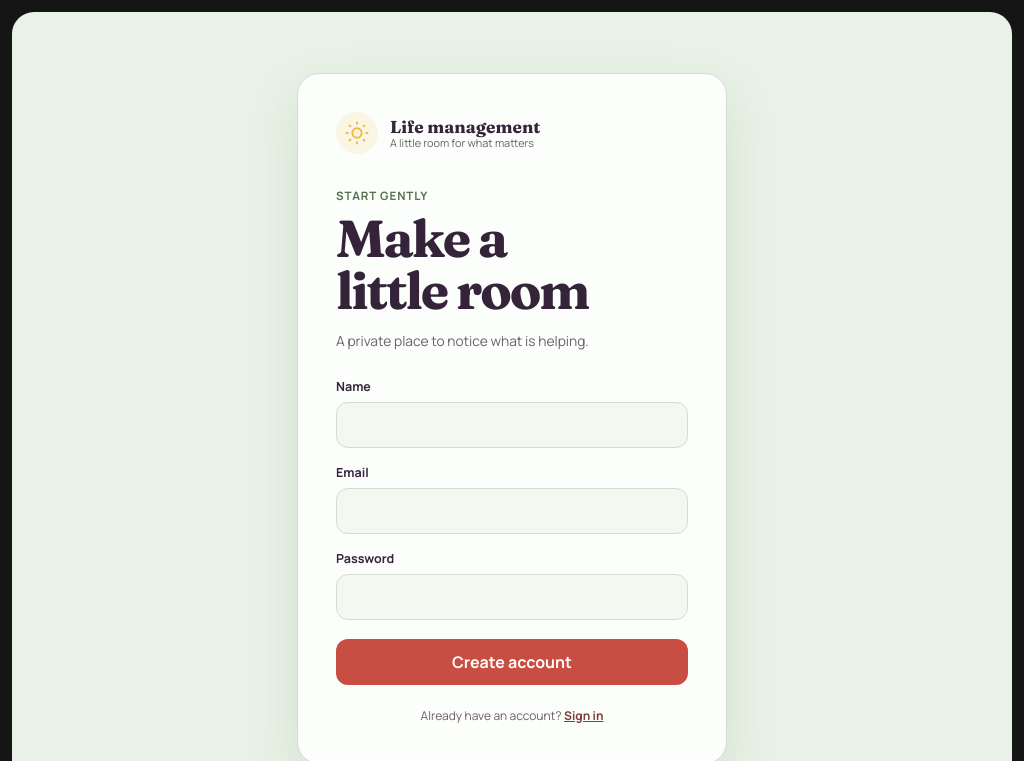
Test: authentication forms › shows signup validation details instead of a generic provider error
In the field labelled "Name": (512, 425) [336,402,688,448], type "Stella"
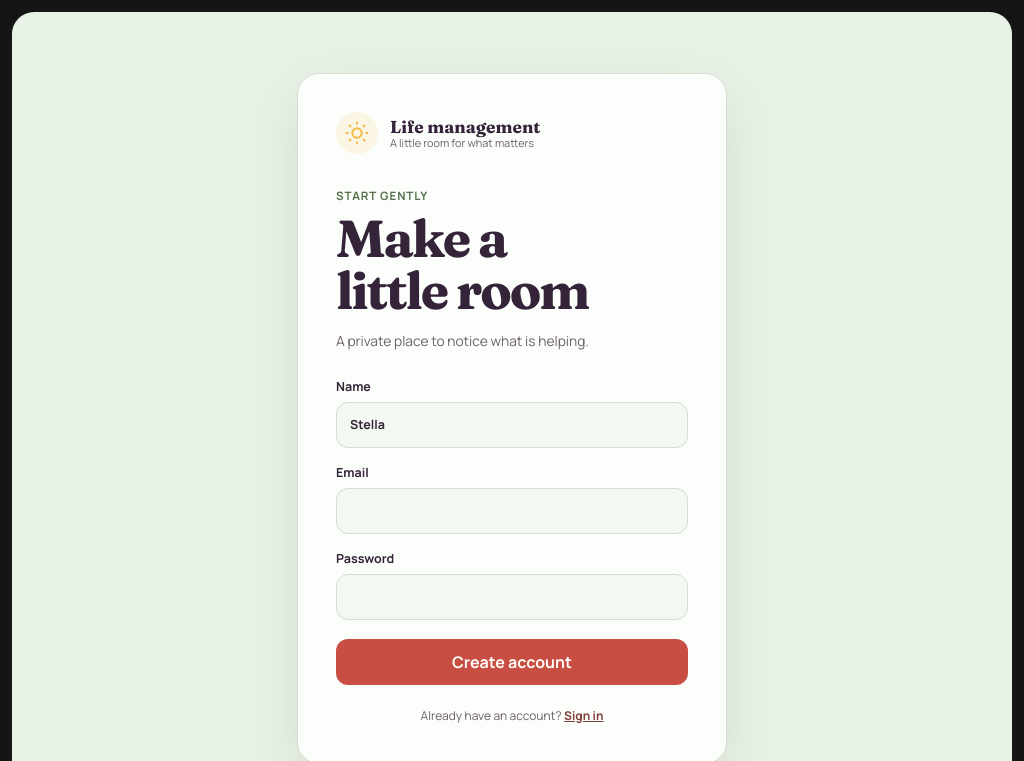
In the field labelled "Email": (512, 511) [336,488,688,534], type "stella@example.test"
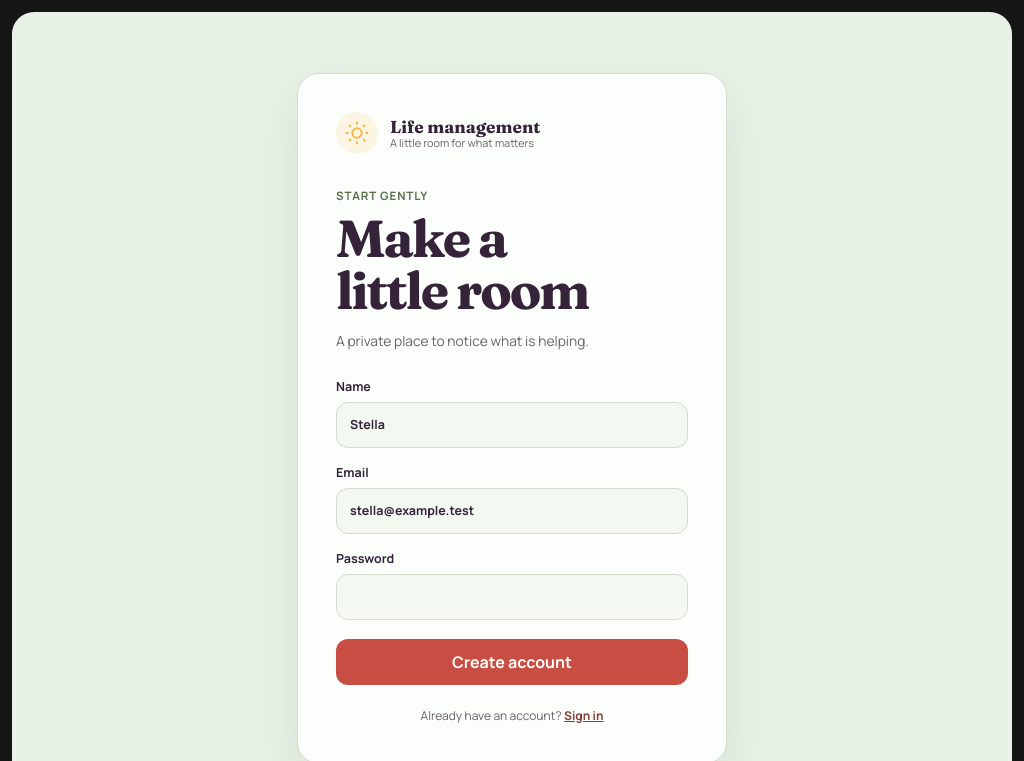
In the password field labelled "Password": (512, 597) [336,574,688,620], type "short"
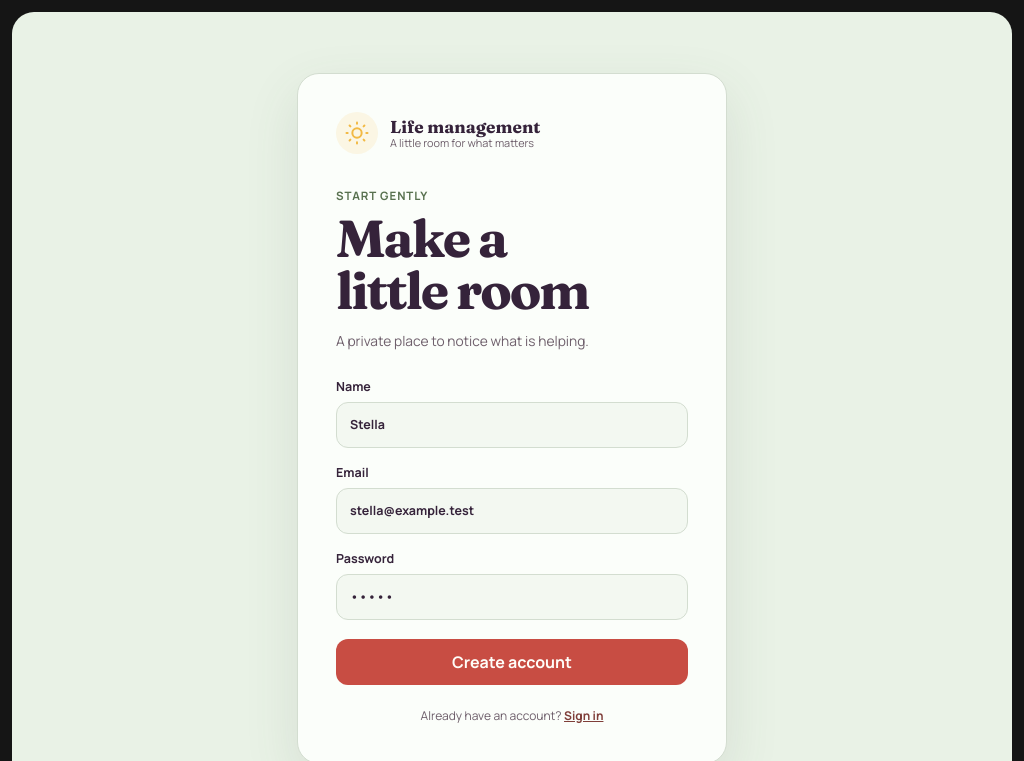
Click the button "Create account": (512, 662) [336,639,688,685]
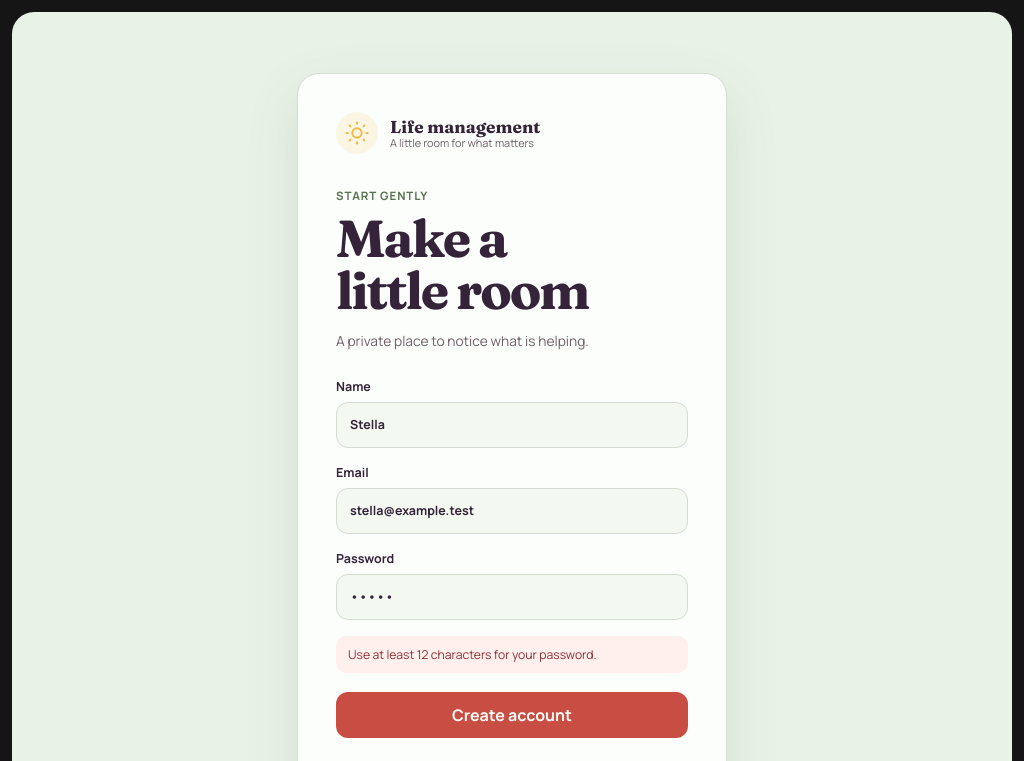
Now the message shows "Use at least 12 characters", box [348,646,597,663]
